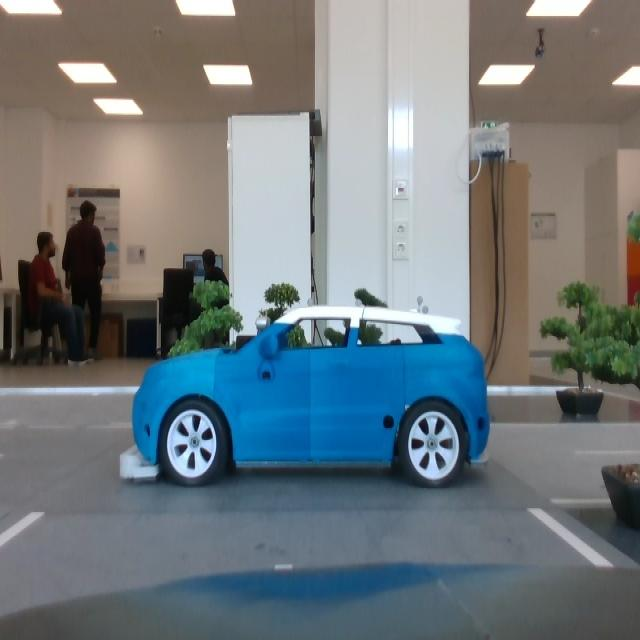car: (118, 302, 495, 490)
potted plant: (538, 281, 640, 416), (325, 283, 408, 421), (167, 277, 244, 421), (256, 283, 313, 420)
